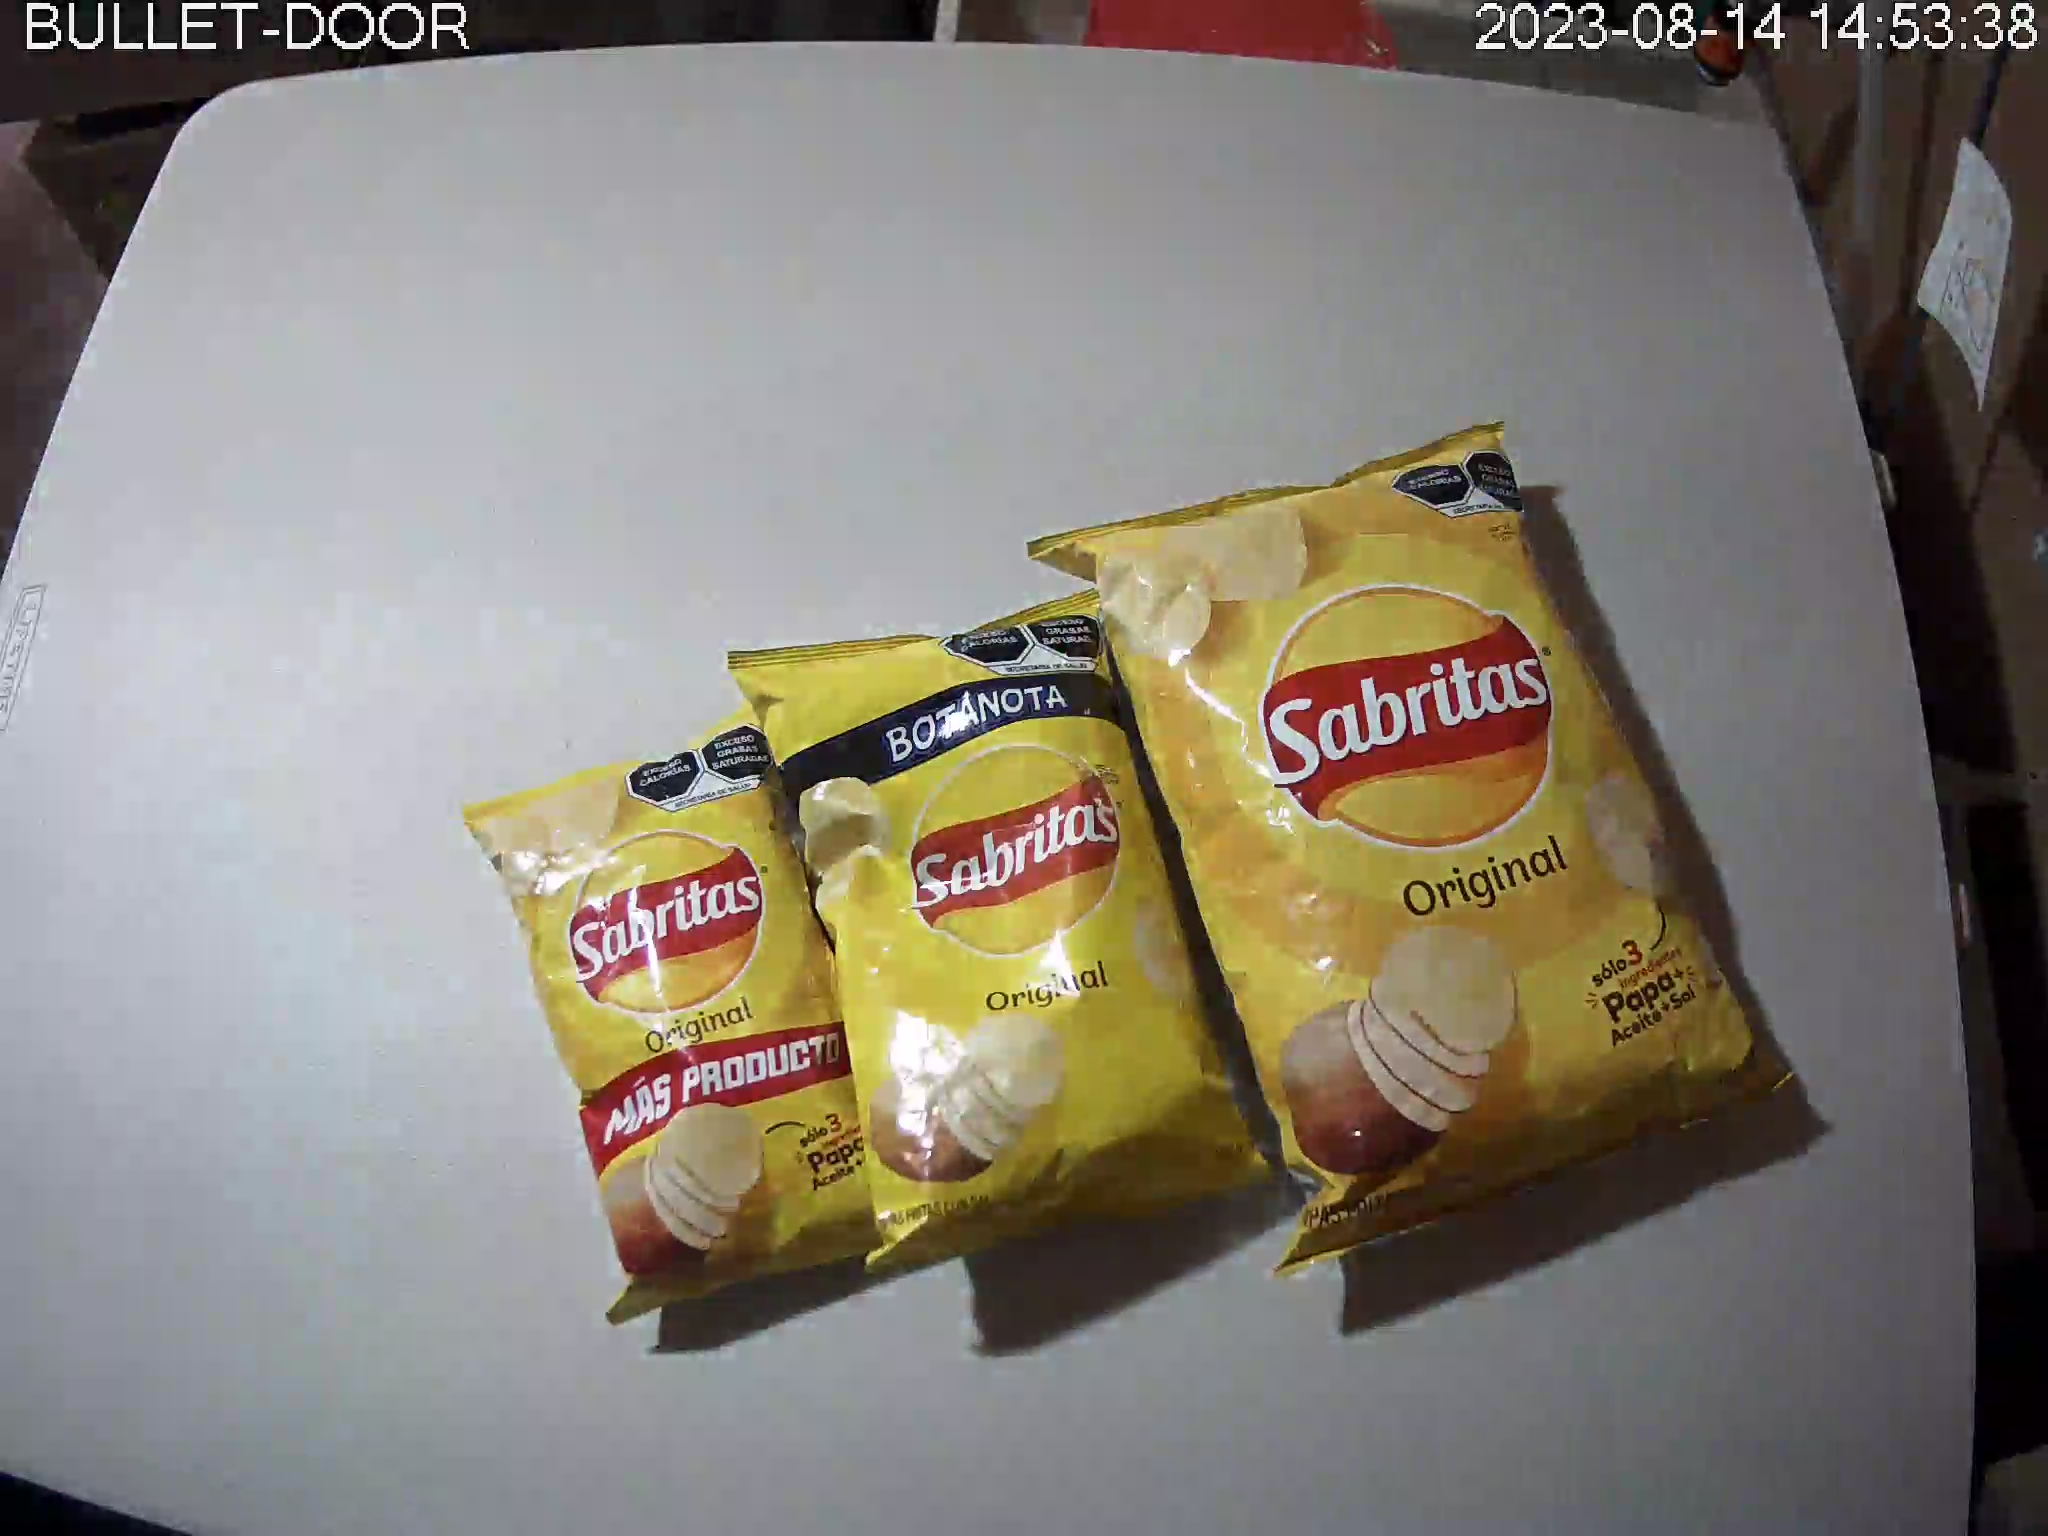Sabritas_160_F: (1026, 419, 1801, 1275)
Sabritas_45_F: (461, 700, 918, 1326)
Sabritas_64_F: (731, 592, 1293, 1275)
